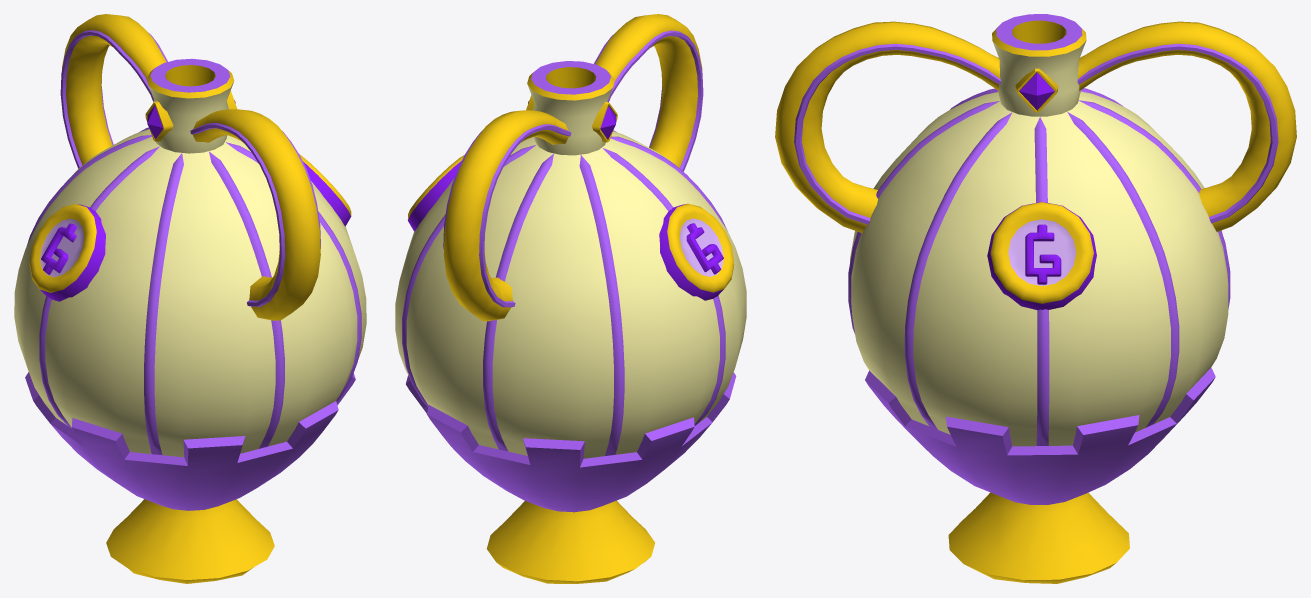
File: AncientVase.fbx
3 renders of one model, left to right at view 1: azimuth 30°, elevation 25°; view 2: azimuth 150°, elevation 25°; view 3: azimuth 270°, elevation 25°, orthographic. The views are drawn at different scales.
Visible parts, largest first — view 1: AncientVase_LOD0; view 2: AncientVase_LOD0; view 3: AncientVase_LOD0.
Part boxes in pixels (x1=…): AncientVase_LOD0: x1=14, y1=14, x2=366, y2=583; AncientVase_LOD0: x1=395, y1=14, x2=746, y2=583; AncientVase_LOD0: x1=775, y1=14, x2=1296, y2=583.
Size of what is drawn, in the model's own units: 1.27 by 1.92 by 1.72.
